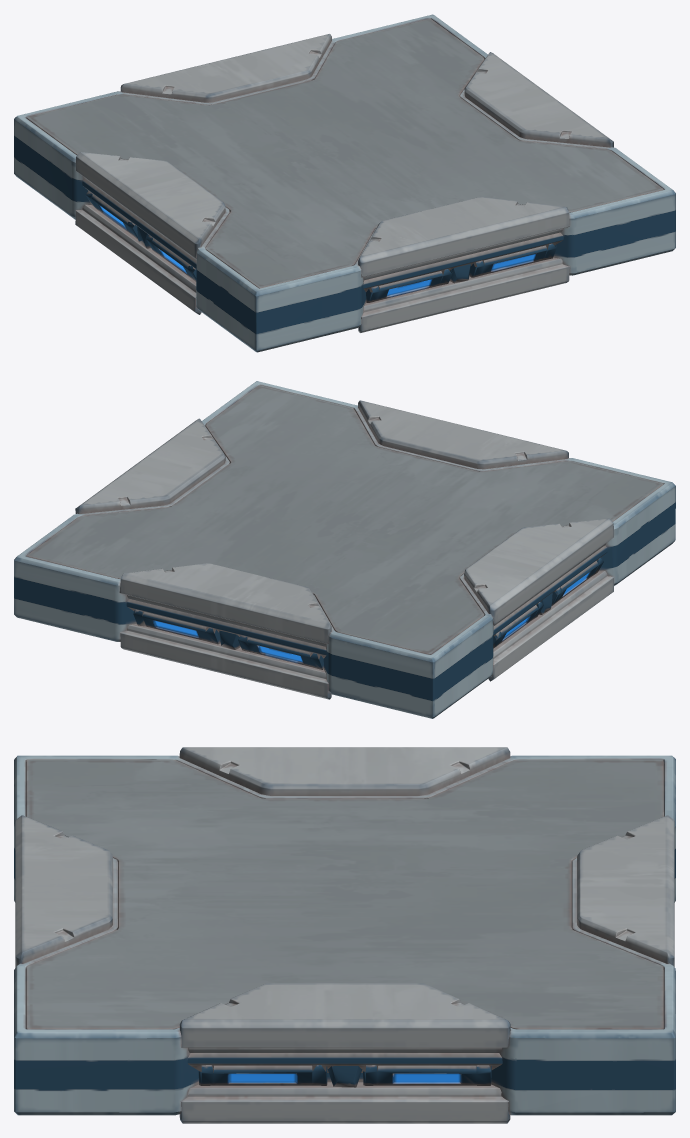
Rendered from Tek Ceiling Quarter.glb.
3 views of the same model, one above another, from view 1: azimuth 30°, elevation 25°; view 2: azimuth 150°, elevation 25°; view 3: azimuth 270°, elevation 25° (orthographic). The views are drawn at different scales.
Parts seen in each view (by area): view 1: SM_Tek_CeilingQuarter; view 2: SM_Tek_CeilingQuarter; view 3: SM_Tek_CeilingQuarter.
Boxes of the visible parts, x1,y1,x2,y2 form: SM_Tek_CeilingQuarter: (14,14,675,352); SM_Tek_CeilingQuarter: (14,381,675,718); SM_Tek_CeilingQuarter: (14,747,675,1123).
Bounding box in the file's own units: 1.51 × 0.2608 × 1.51.
1 material, 1 textured.
